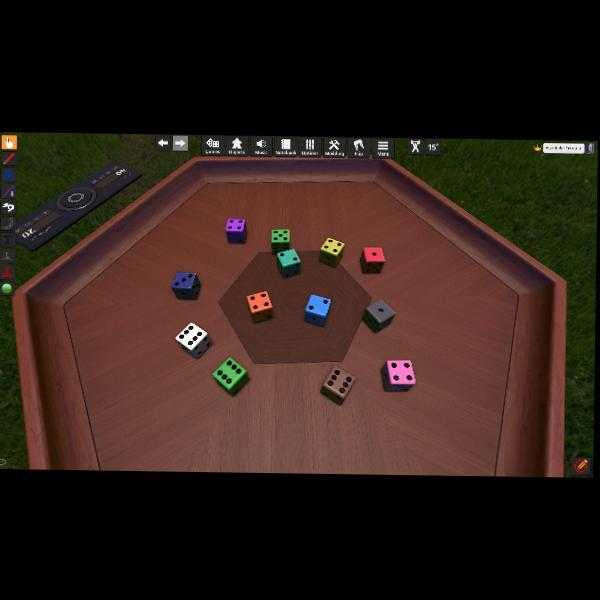d6: (319, 364, 354, 404), (212, 357, 247, 396), (176, 322, 212, 358), (362, 298, 395, 333), (381, 359, 414, 391), (172, 270, 202, 300), (305, 293, 332, 326), (319, 237, 344, 267), (276, 247, 300, 278), (360, 245, 384, 274), (225, 218, 246, 243), (271, 228, 290, 254)
